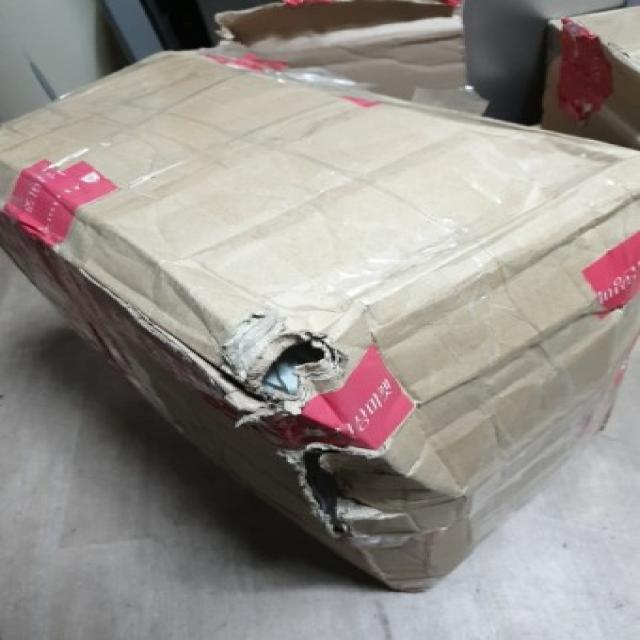hole: (236, 323, 350, 396), (297, 441, 351, 543)
